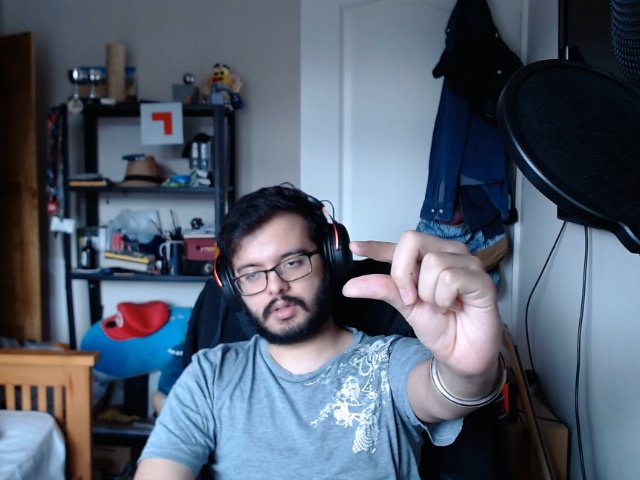Small: (338, 230, 510, 387)
